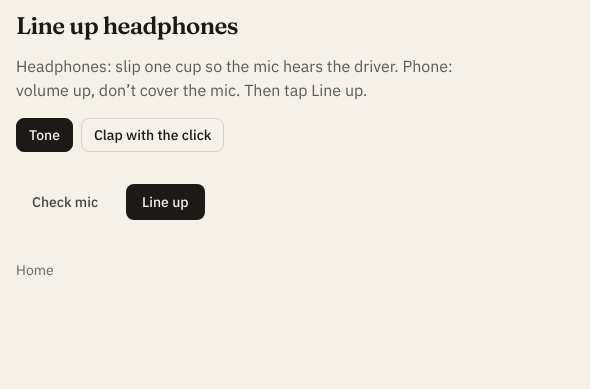
Test case: CalibrationPage › lets the singer type a value after a missed tone
Click the button "Line up".
click(165, 202)  # box [126,184,205,220]
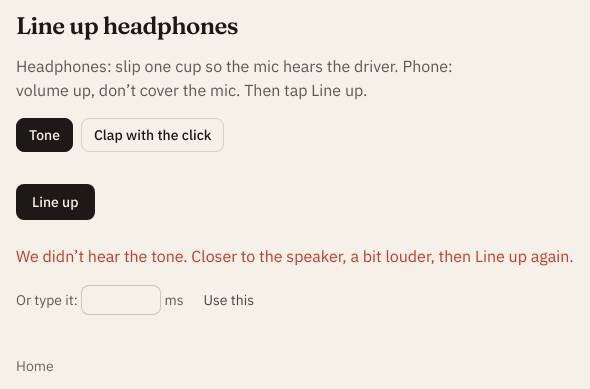
Check: the message is shown, box [16,246,574,266]
Type "120" into the number field labelled "Or type it: ms".
click(121, 300); type("120")  # box [81,285,161,315]
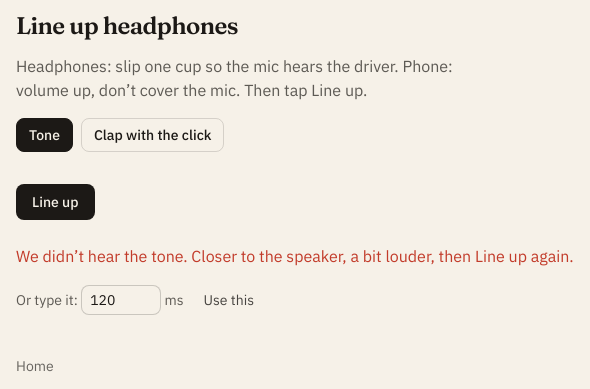
Click the button "Use this".
click(229, 300)  # box [192,284,266,316]
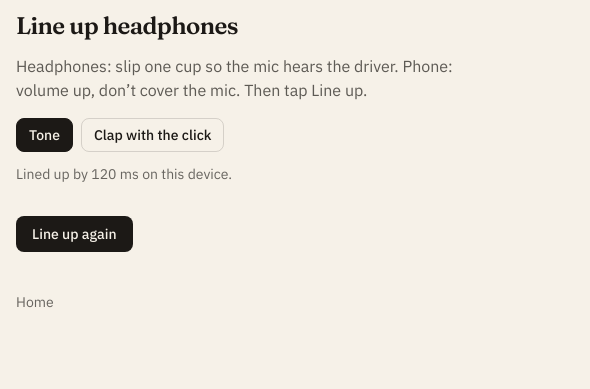
Check: the text "Lined up by 120 ms on this device." is shown, box [16,165,232,183]
Check: the message is gone
